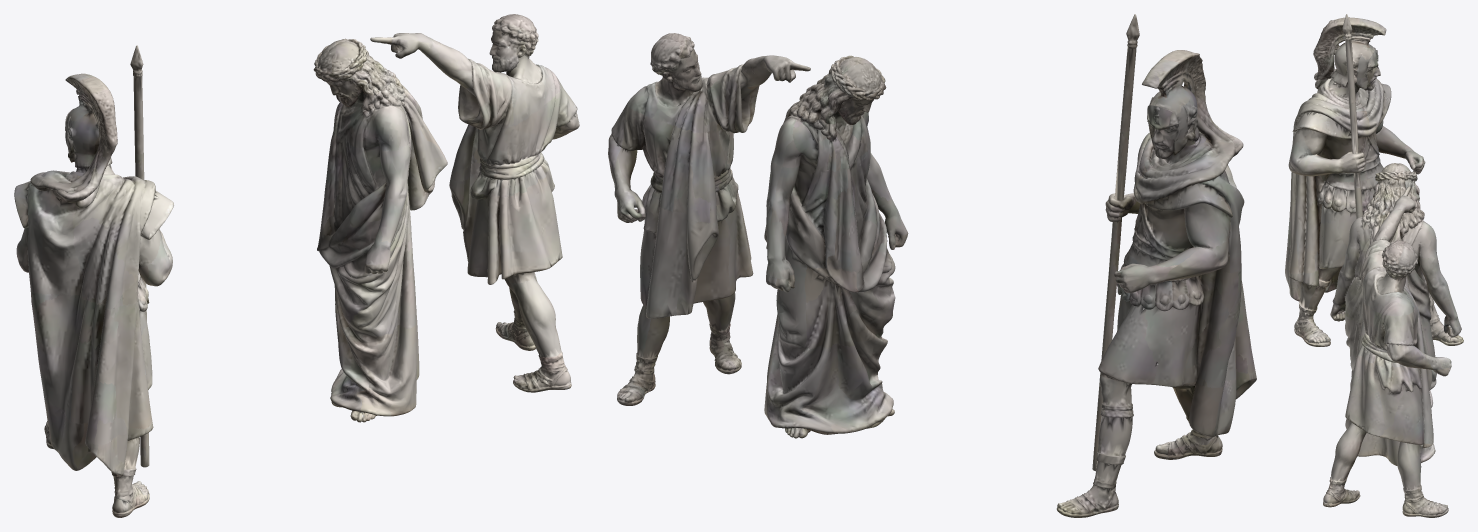
Rendered from estacion10.glb.
3 renders of one model, left to right at view 1: azimuth 30°, elevation 25°; view 2: azimuth 150°, elevation 25°; view 3: azimuth 270°, elevation 25°, orthographic. The views are drawn at different scales.
Visible parts, largest first — view 1: tripo_node_703e445d-df19-404c-81e4-190624da080f; view 2: tripo_node_703e445d-df19-404c-81e4-190624da080f; view 3: tripo_node_703e445d-df19-404c-81e4-190624da080f.
Boxes of the visible parts, <box> form: tripo_node_703e445d-df19-404c-81e4-190624da080f: <box>14,14,579,517</box>; tripo_node_703e445d-df19-404c-81e4-190624da080f: <box>608,14,1256,517</box>; tripo_node_703e445d-df19-404c-81e4-190624da080f: <box>1285,14,1463,517</box>.
Size of the model in its own units: 0.9784 by 0.7077 by 0.3398.
1 material, 1 textured.
